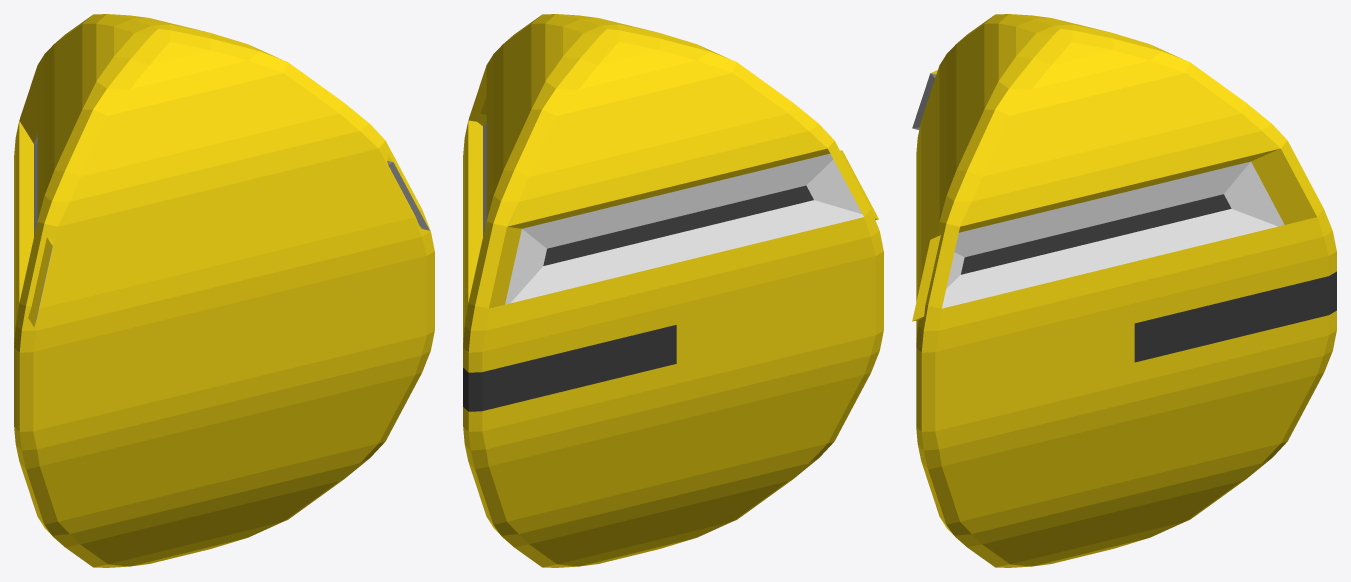
File: Ninja.fbx
3 views of the same model, side by side, from view 1: azimuth 30°, elevation 25°; view 2: azimuth 150°, elevation 25°; view 3: azimuth 270°, elevation 25° (orthographic).
Visible parts, largest first — view 1: Sphere; view 2: Sphere; view 3: Sphere.
Part boxes in pixels (x1,y1,x2,y2): Sphere: (14,14,434,567); Sphere: (463,14,883,567); Sphere: (912,14,1336,567).
Bounding box in the file's own units: 162 × 196 × 144.
